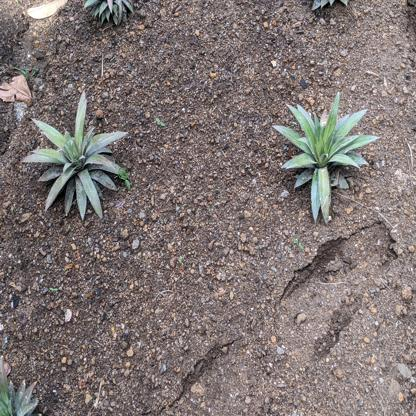pineapple: (22, 92, 132, 223), (273, 91, 379, 225), (1, 367, 43, 416), (83, 1, 139, 27)
